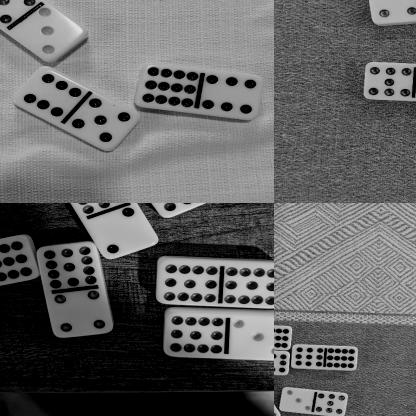pip-11: (156, 257, 220, 306), (164, 309, 226, 358), (35, 242, 98, 288), (220, 261, 274, 307)
pip-12: (135, 63, 201, 112), (0, 235, 32, 284), (325, 345, 357, 370), (274, 324, 292, 349)
pip-2: (90, 208, 158, 259)
pip-3: (14, 7, 87, 62), (228, 308, 274, 362), (279, 385, 313, 414)
pip-4: (44, 288, 113, 338), (367, 0, 416, 23)
pip-5: (71, 97, 139, 151)
pip-6: (13, 66, 82, 117), (201, 70, 261, 120)
pip-7: (362, 60, 414, 100), (313, 390, 347, 416), (0, 0, 34, 23)
pip-8: (274, 349, 290, 375)
pip-9: (136, 203, 209, 217), (291, 344, 325, 370)
